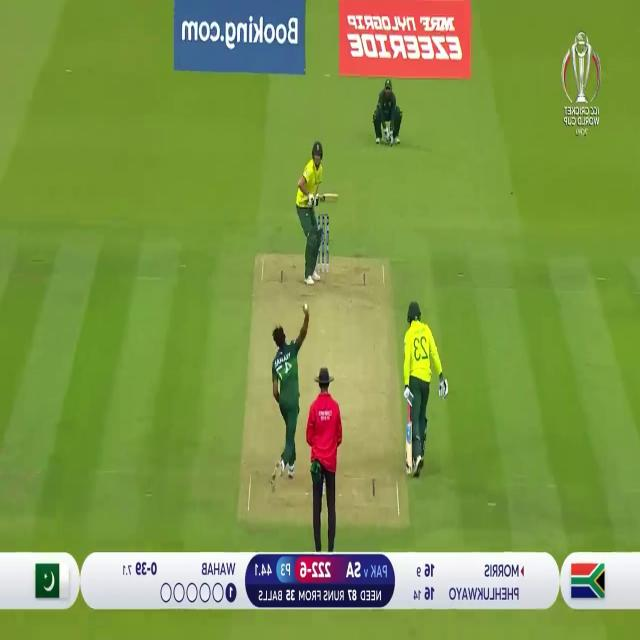ball: (302, 295, 312, 313)
